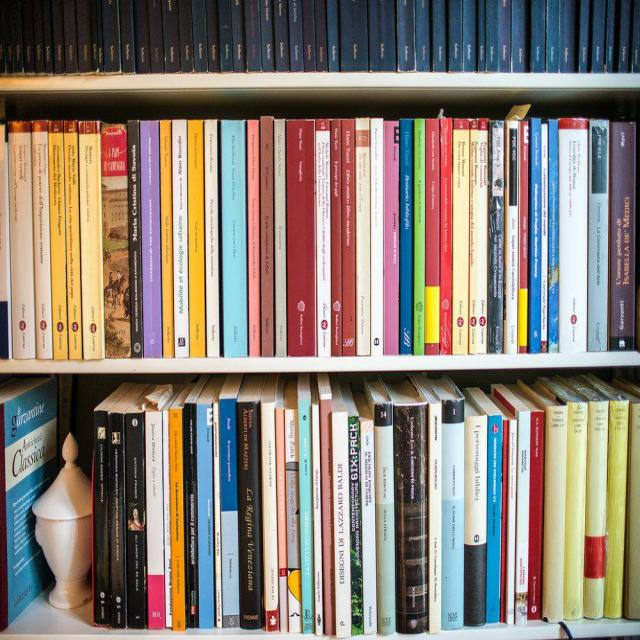book: (107, 134, 130, 355), (291, 130, 308, 353), (11, 130, 27, 358), (566, 126, 582, 345), (219, 412, 235, 622), (224, 129, 239, 350), (243, 413, 257, 626), (618, 135, 632, 346), (548, 121, 560, 352), (83, 126, 95, 356), (386, 129, 398, 345), (613, 404, 624, 616), (594, 408, 605, 619), (414, 126, 424, 350), (192, 127, 202, 350), (35, 130, 45, 352), (341, 127, 351, 344), (262, 119, 271, 354), (147, 128, 156, 351), (372, 131, 381, 346), (206, 126, 214, 354), (67, 130, 74, 356), (36, 130, 43, 354), (277, 130, 283, 357)
